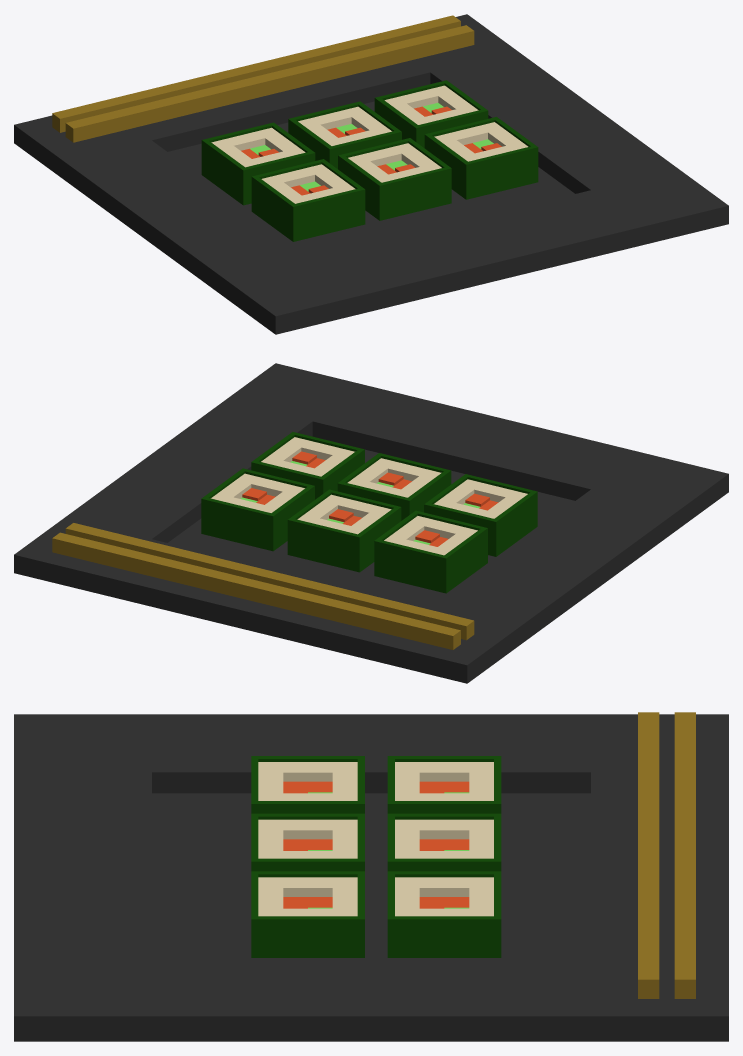
Rendered from sushi.glb.
3 views of the same model, one above another, from view 1: azimuth 30°, elevation 25°; view 2: azimuth 150°, elevation 25°; view 3: azimuth 270°, elevation 25° (orthographic). The views are drawn at different scales.
Visible parts, largest first — view 1: Plate, Sushi, chopstick.001, chopstick; view 2: Plate, Sushi, chopstick, chopstick.001; view 3: Plate, Sushi, chopstick.001, chopstick.
Boxes of the visible parts, left/top/right/bottom form: Plate: left=14, top=14, right=728, bottom=334; Sushi: left=201, top=80, right=538, bottom=241; chopstick.001: left=65, top=25, right=474, bottom=142; chopstick: left=52, top=15, right=460, bottom=132; Plate: left=14, top=363, right=728, bottom=683; Sushi: left=201, top=432, right=537, bottom=593; chopstick: left=52, top=532, right=460, bottom=649; chopstick.001: left=65, top=523, right=474, bottom=640; Plate: left=14, top=714, right=728, bottom=1041; Sushi: left=251, top=756, right=501, bottom=957; chopstick.001: left=638, top=712, right=659, bottom=998; chopstick: left=674, top=712, right=695, bottom=998.
Size of what is drawn, in the model's own units: 8 by 0.6536 by 8.
